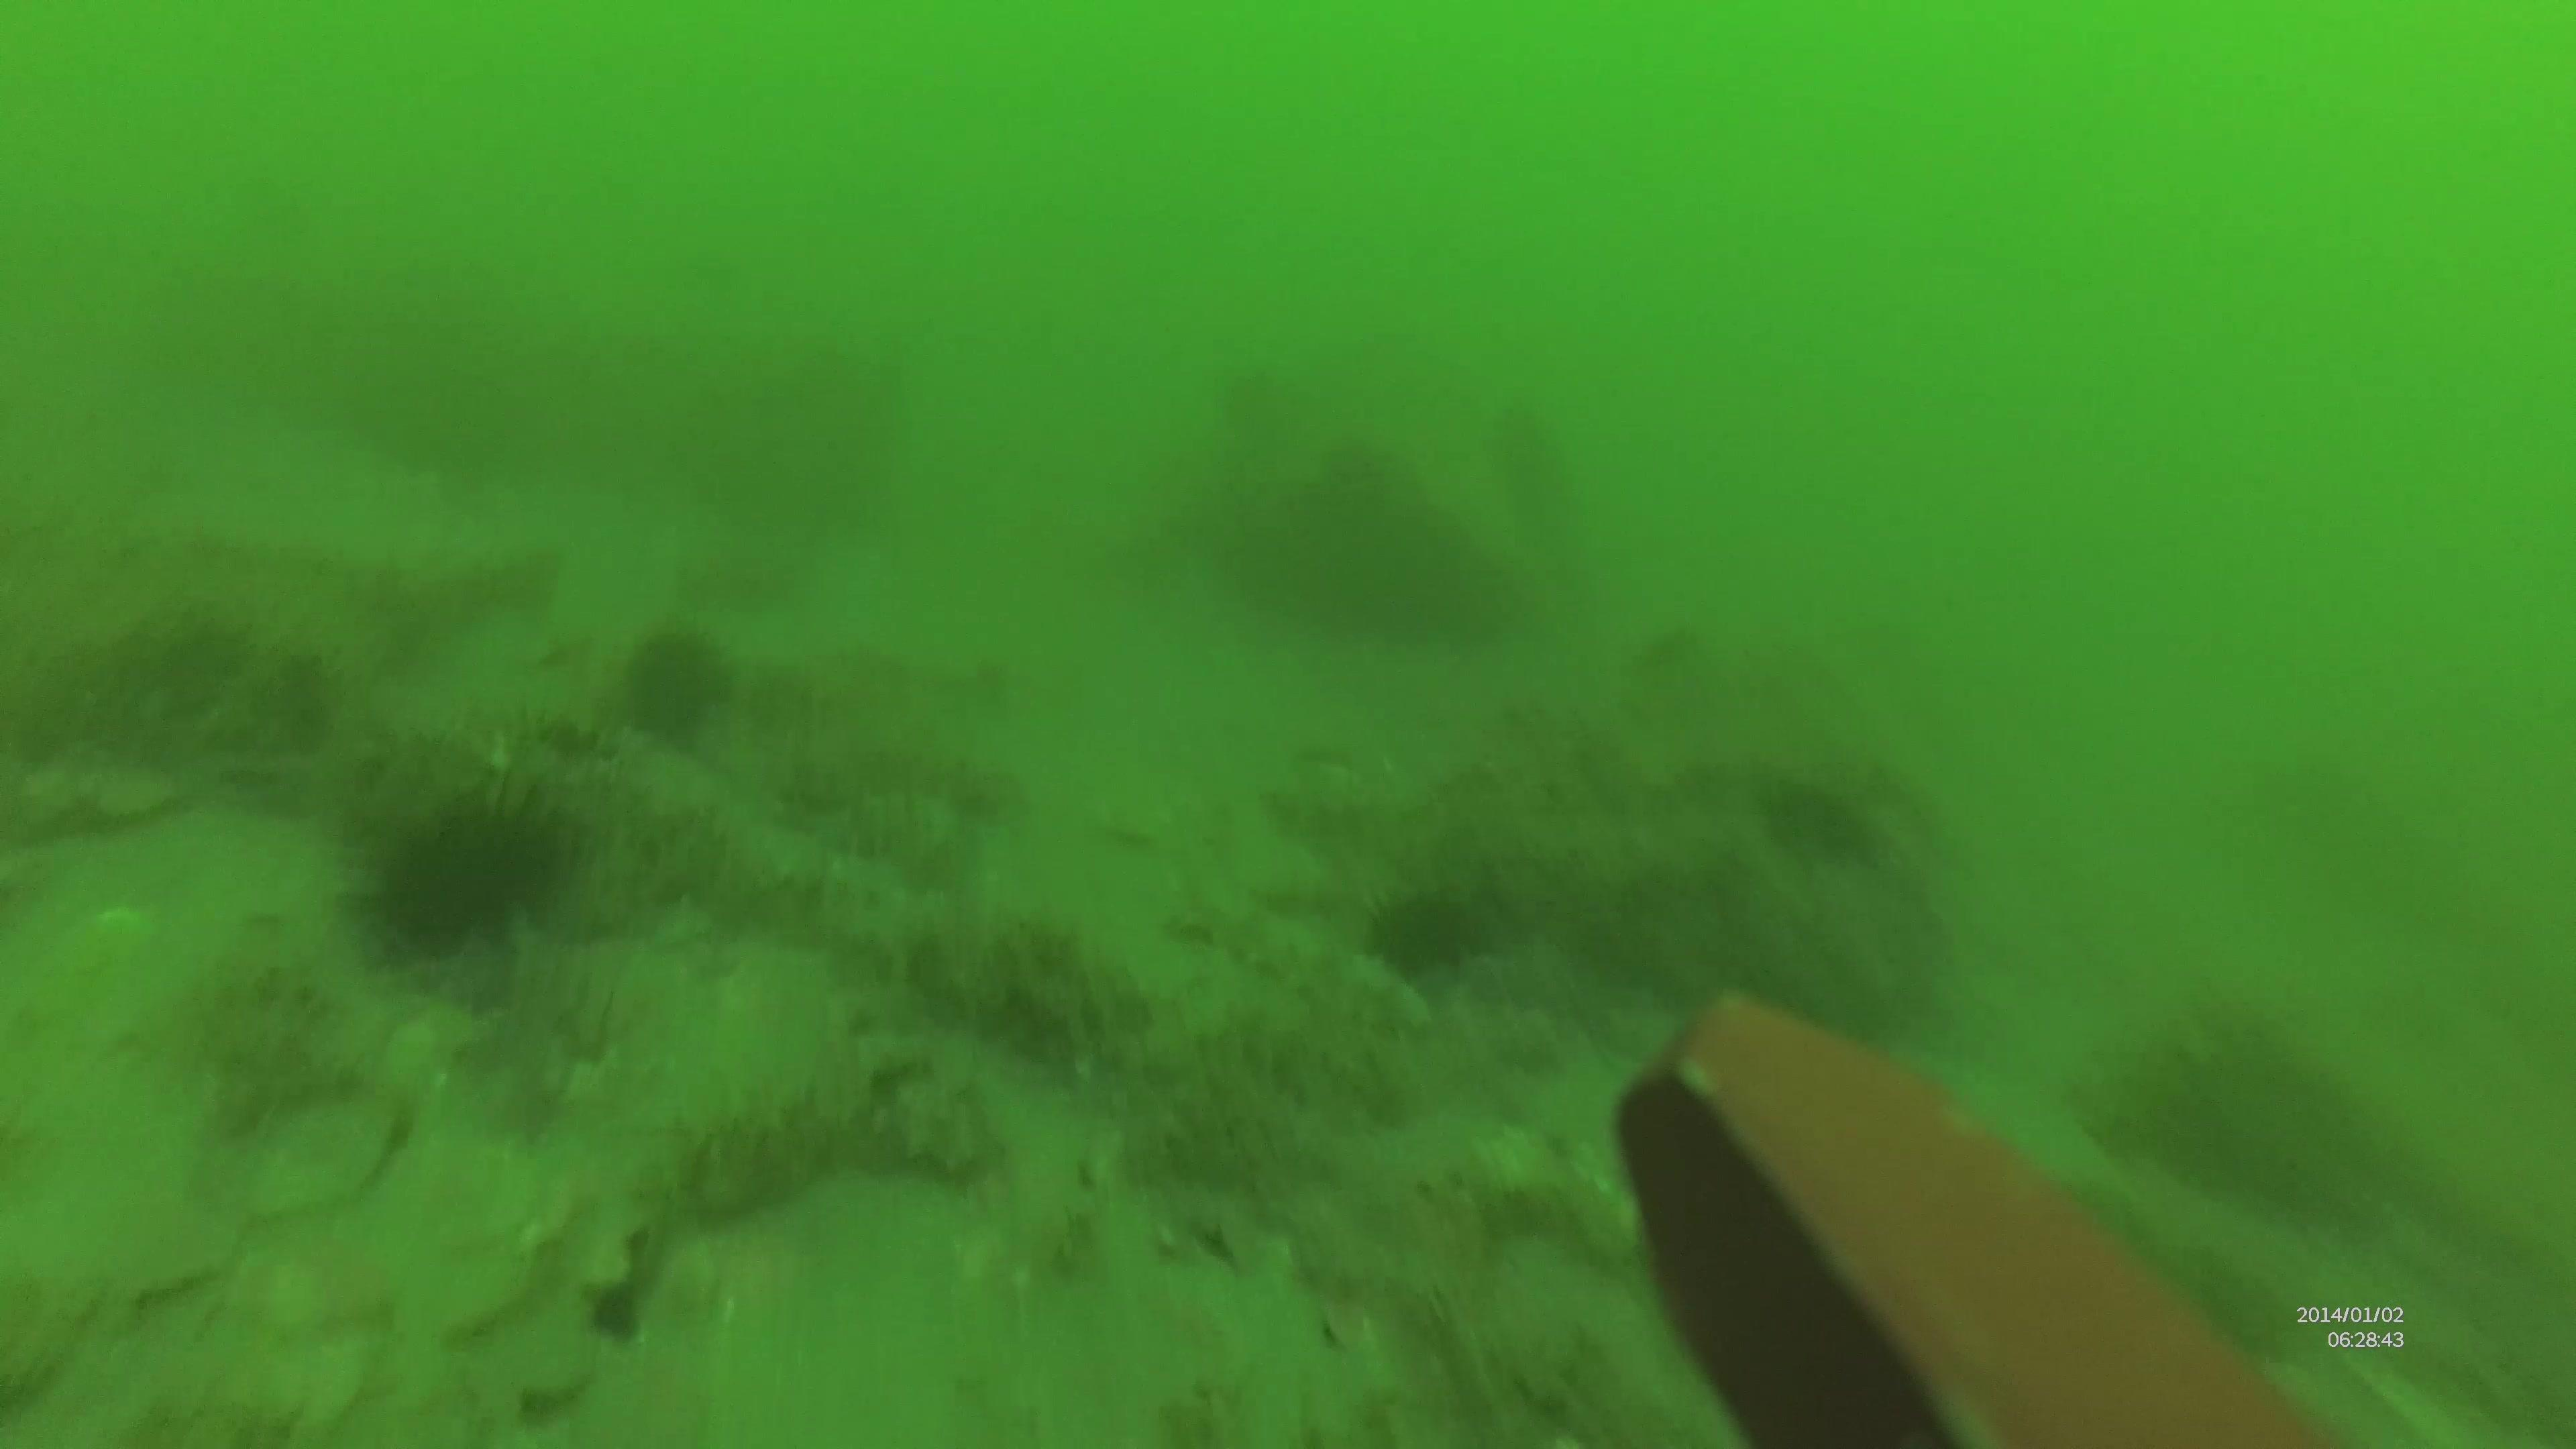echinus: (356, 768, 607, 993), (1362, 874, 1499, 1010), (614, 617, 740, 763)
